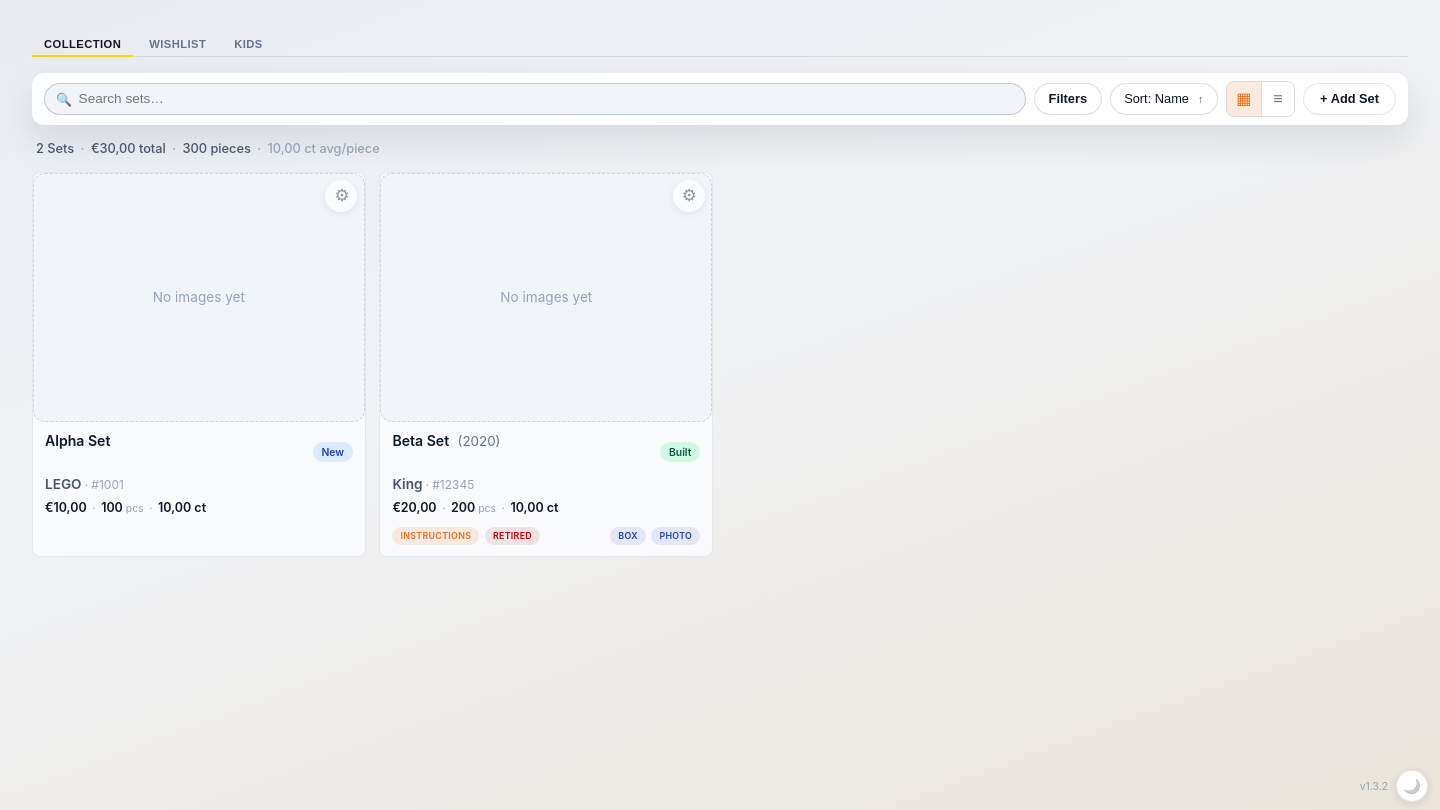
Test case: App.vue › filters by retired chip on a set card
Click the text with class "detail-chip--retired". click: x=512, y=536
box: [485,527,540,545]
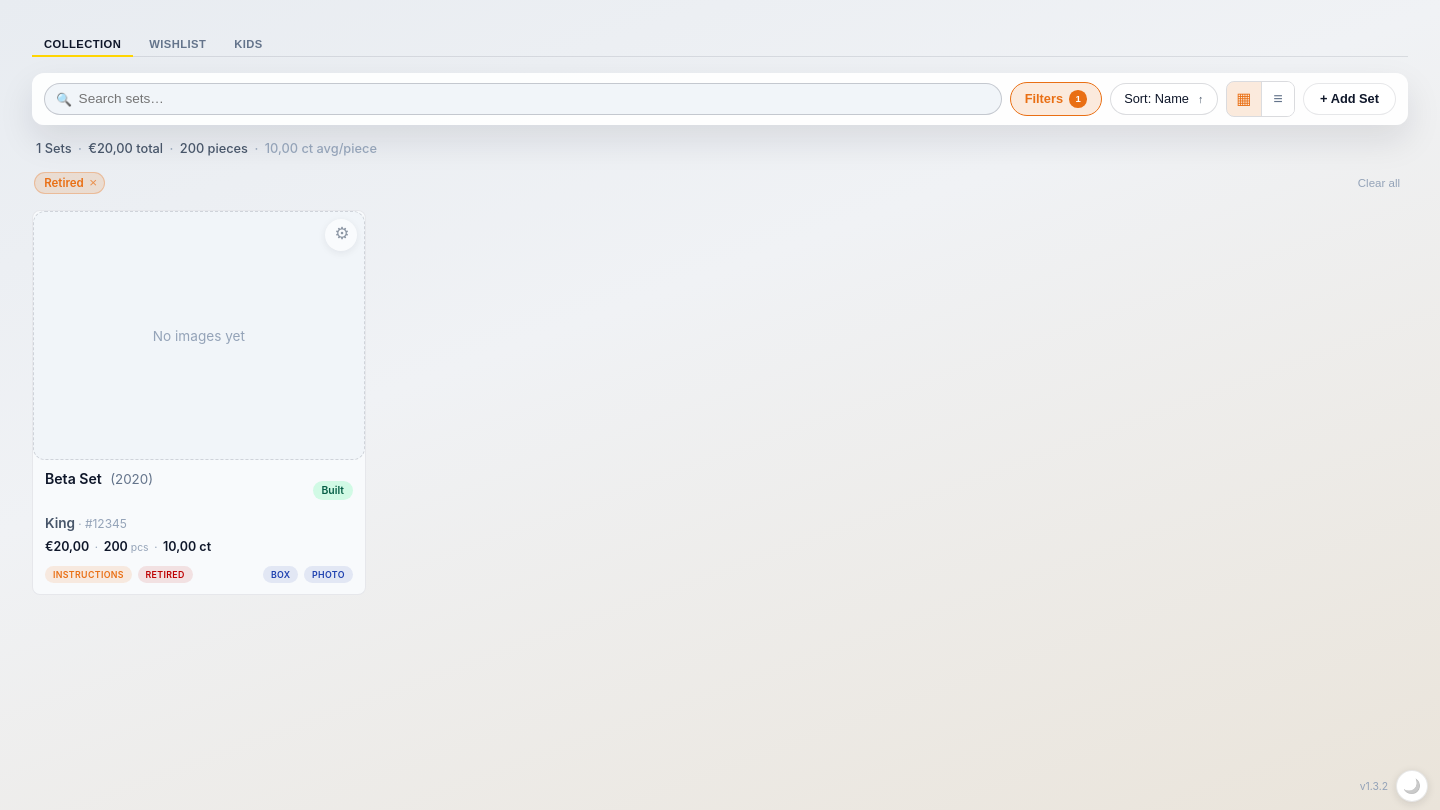
Check: the text "Beta Set" is shown, box [45,470,102,487]
Check: the text "Alpha Set" is gone
